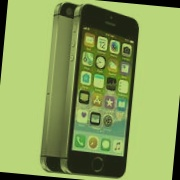iphone: (66, 5, 134, 176)
